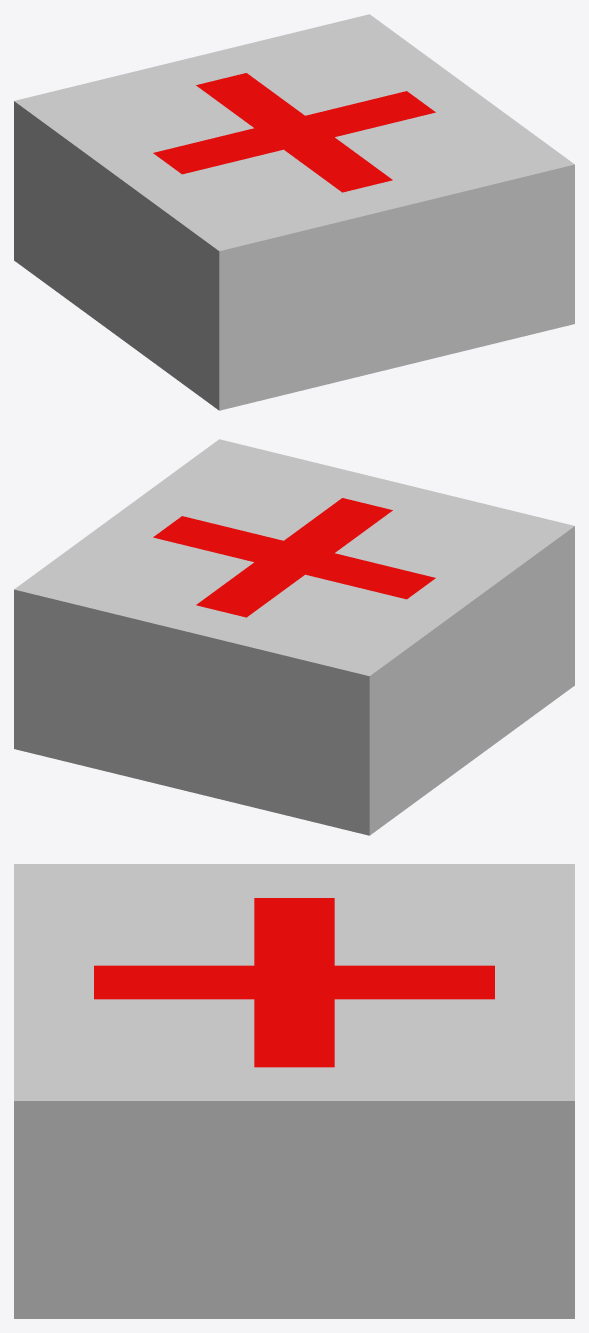
The model's file is Medikit.fbx.
3 views of the same model, one above another, from view 1: azimuth 30°, elevation 25°; view 2: azimuth 150°, elevation 25°; view 3: azimuth 270°, elevation 25° (orthographic). The views are drawn at different scales.
Visible parts, largest first — view 1: Medikit; view 2: Medikit; view 3: Medikit.
Part boxes in pixels (bbox=[...]): Medikit: bbox=[14, 14, 574, 410]; Medikit: bbox=[14, 439, 574, 835]; Medikit: bbox=[14, 864, 574, 1318].
Bounding box in the file's own units: 70 × 70 × 30.
